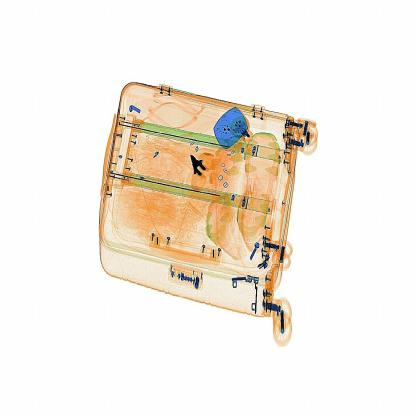gun: (188, 133, 216, 202)
